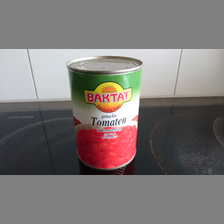tomato_sauce: (68, 55, 143, 170)
